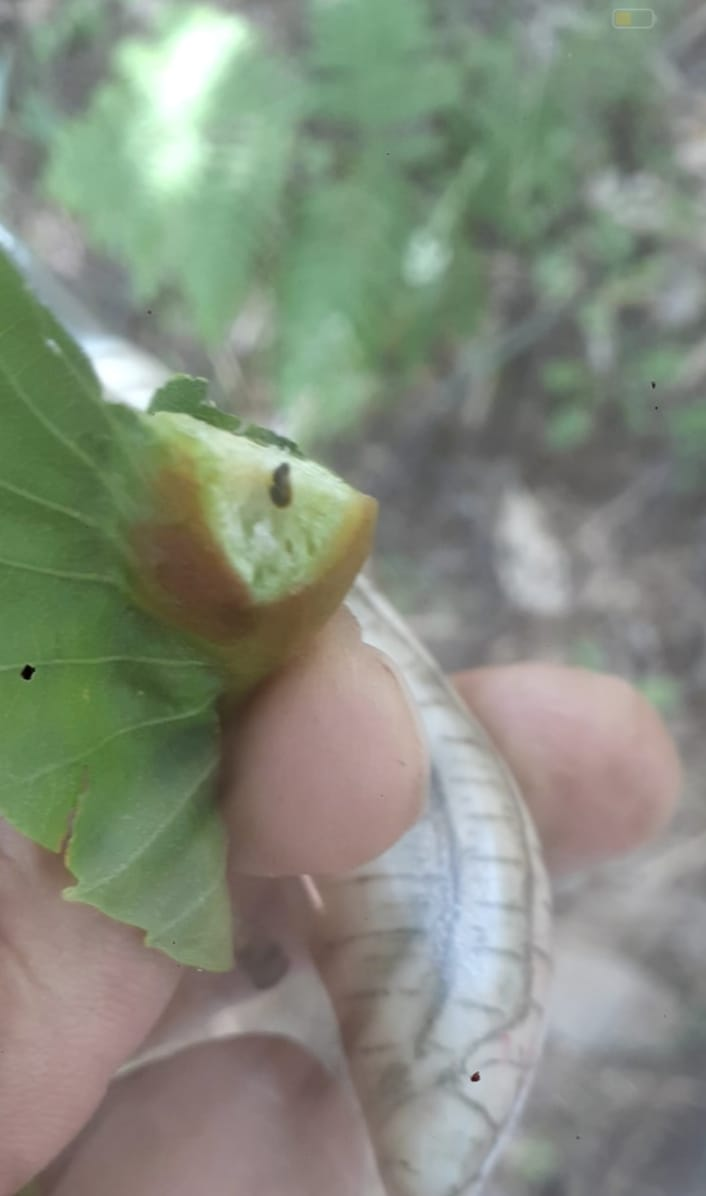galarisi: (106, 390, 376, 661)
